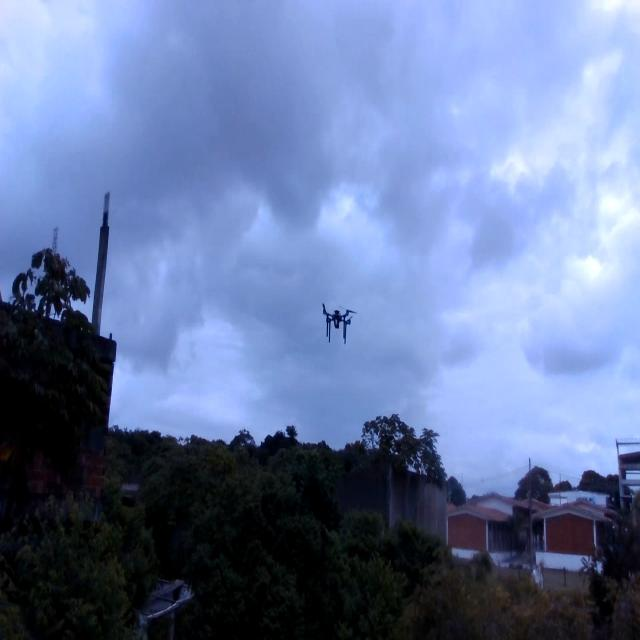-uav-: (309, 283, 363, 351)
